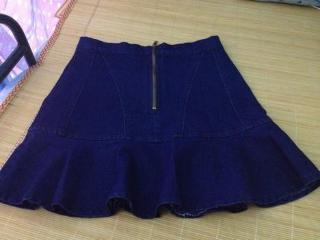skirt: (0, 35, 319, 219)
